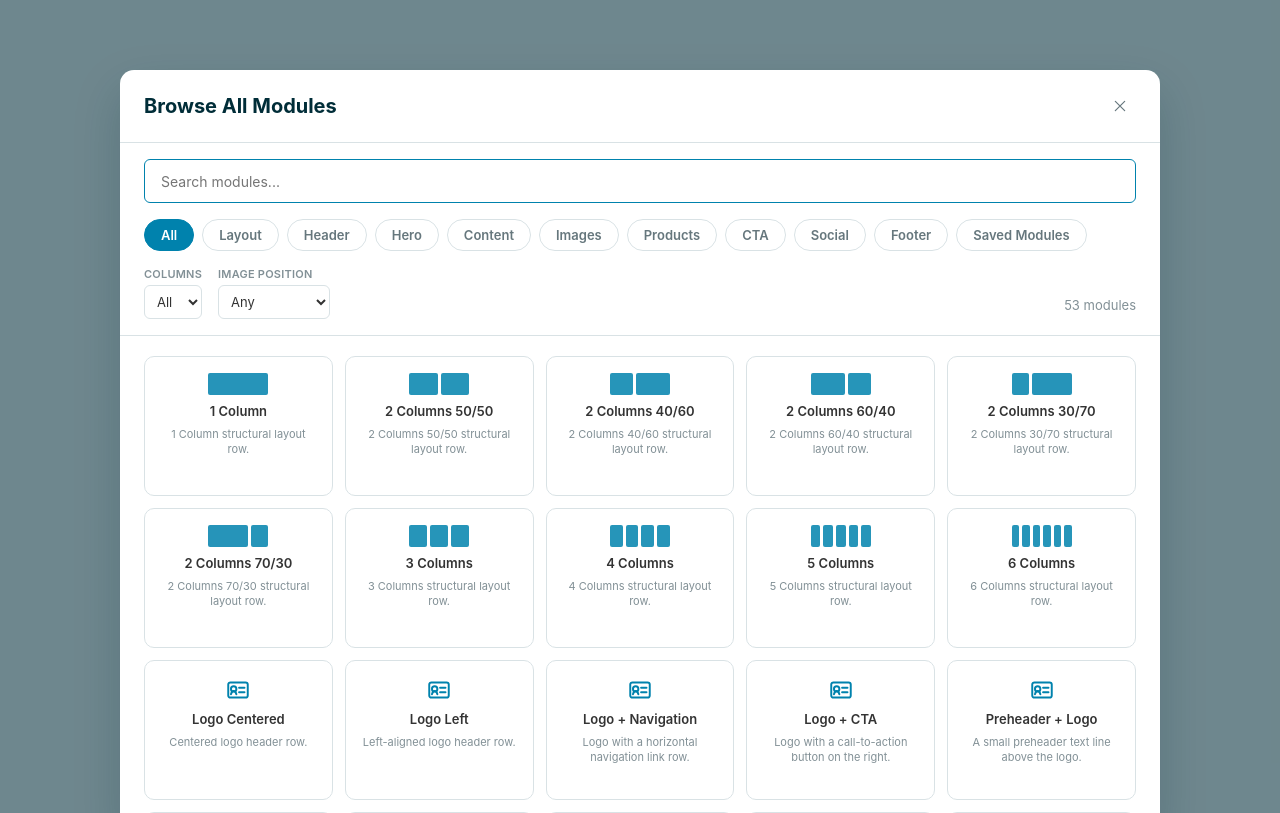
ModuleLibraryModal › filters results as the user types
In the search field: (640, 181) [144,159,1136,203], type "footer"
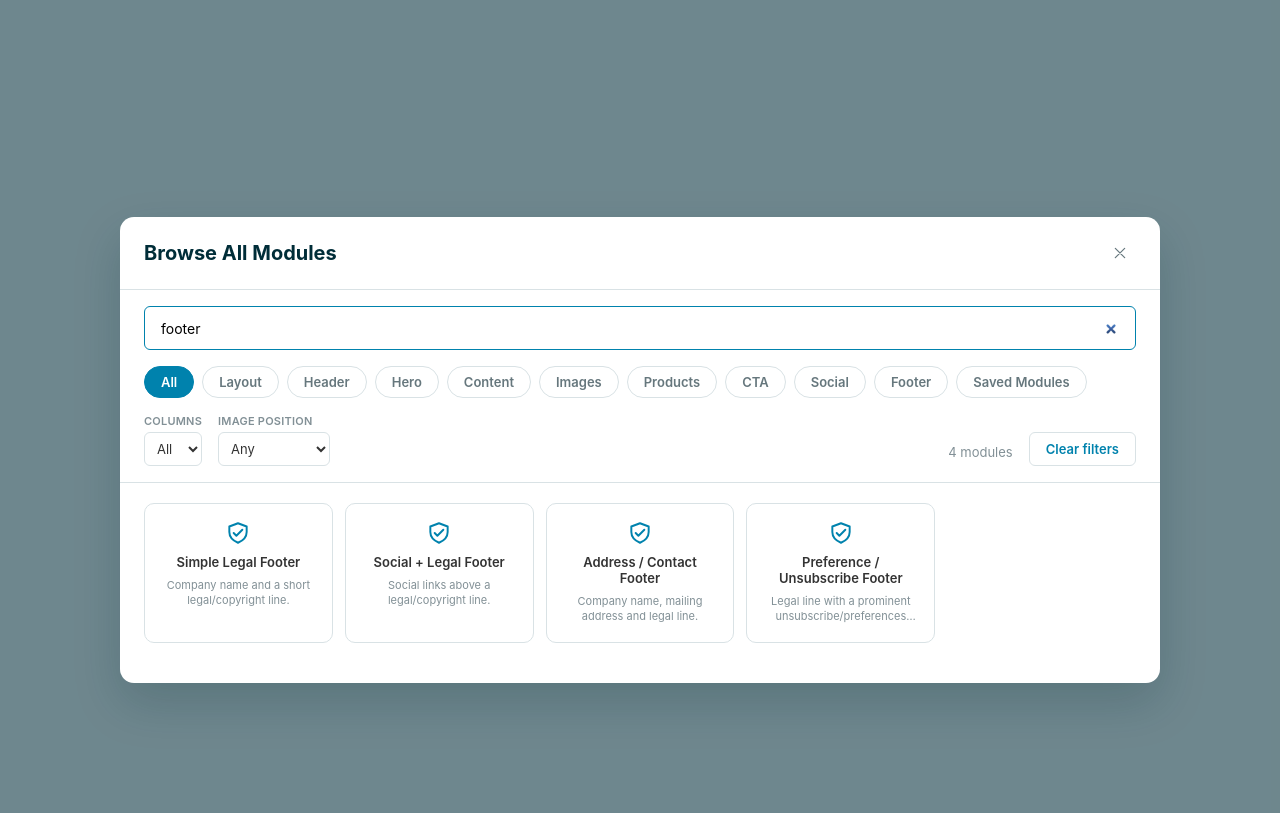
Check: the button with aria-label "Add Simple Legal Footer" is shown, box [144,503,333,643]
